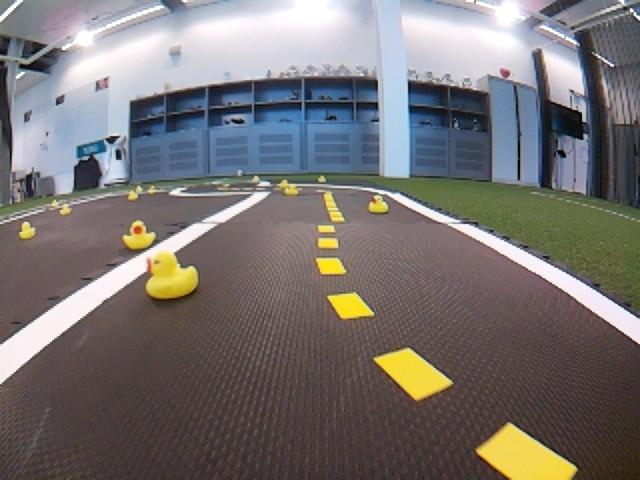Duckies: (146, 250, 198, 301), (121, 219, 155, 250), (368, 195, 387, 213), (18, 222, 36, 238), (286, 185, 299, 196), (60, 205, 72, 215), (278, 180, 290, 188), (128, 192, 138, 201), (148, 184, 157, 194), (317, 175, 327, 182), (51, 199, 58, 206), (251, 176, 259, 182), (136, 185, 142, 193)
